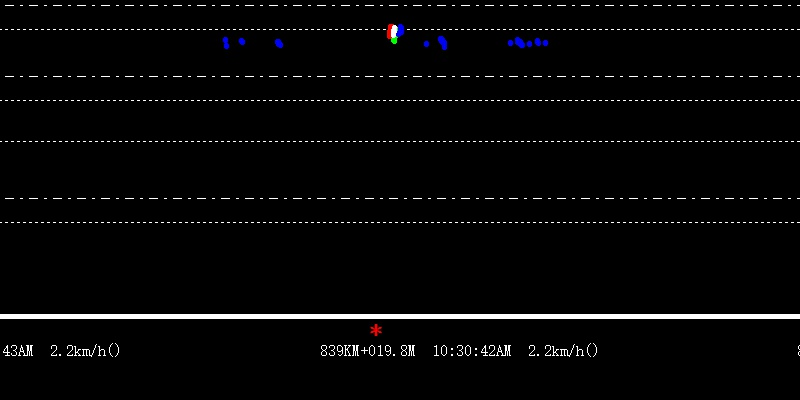face_down: (436, 25, 448, 53), (272, 24, 285, 49), (513, 24, 525, 49), (222, 25, 229, 50)
star: (366, 323, 383, 337)
